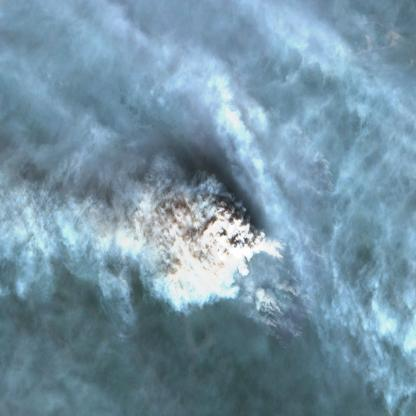fire: (242, 100, 341, 349)
